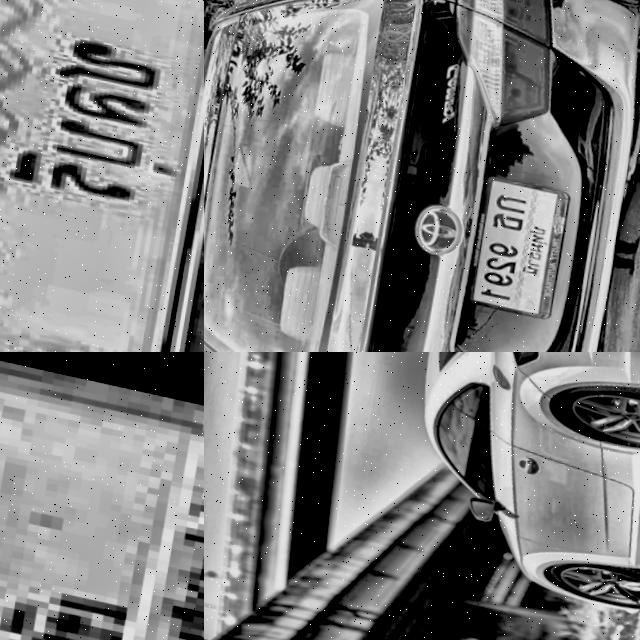license-plate: (0, 0, 204, 352), (0, 352, 204, 640), (464, 166, 574, 314)
